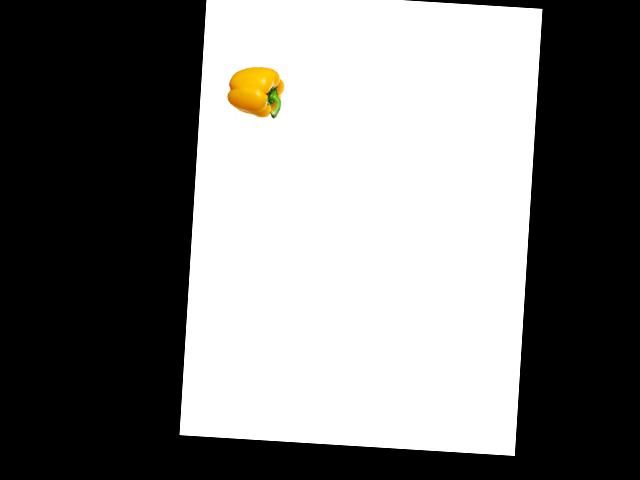bell_pepper: (223, 60, 290, 124)
